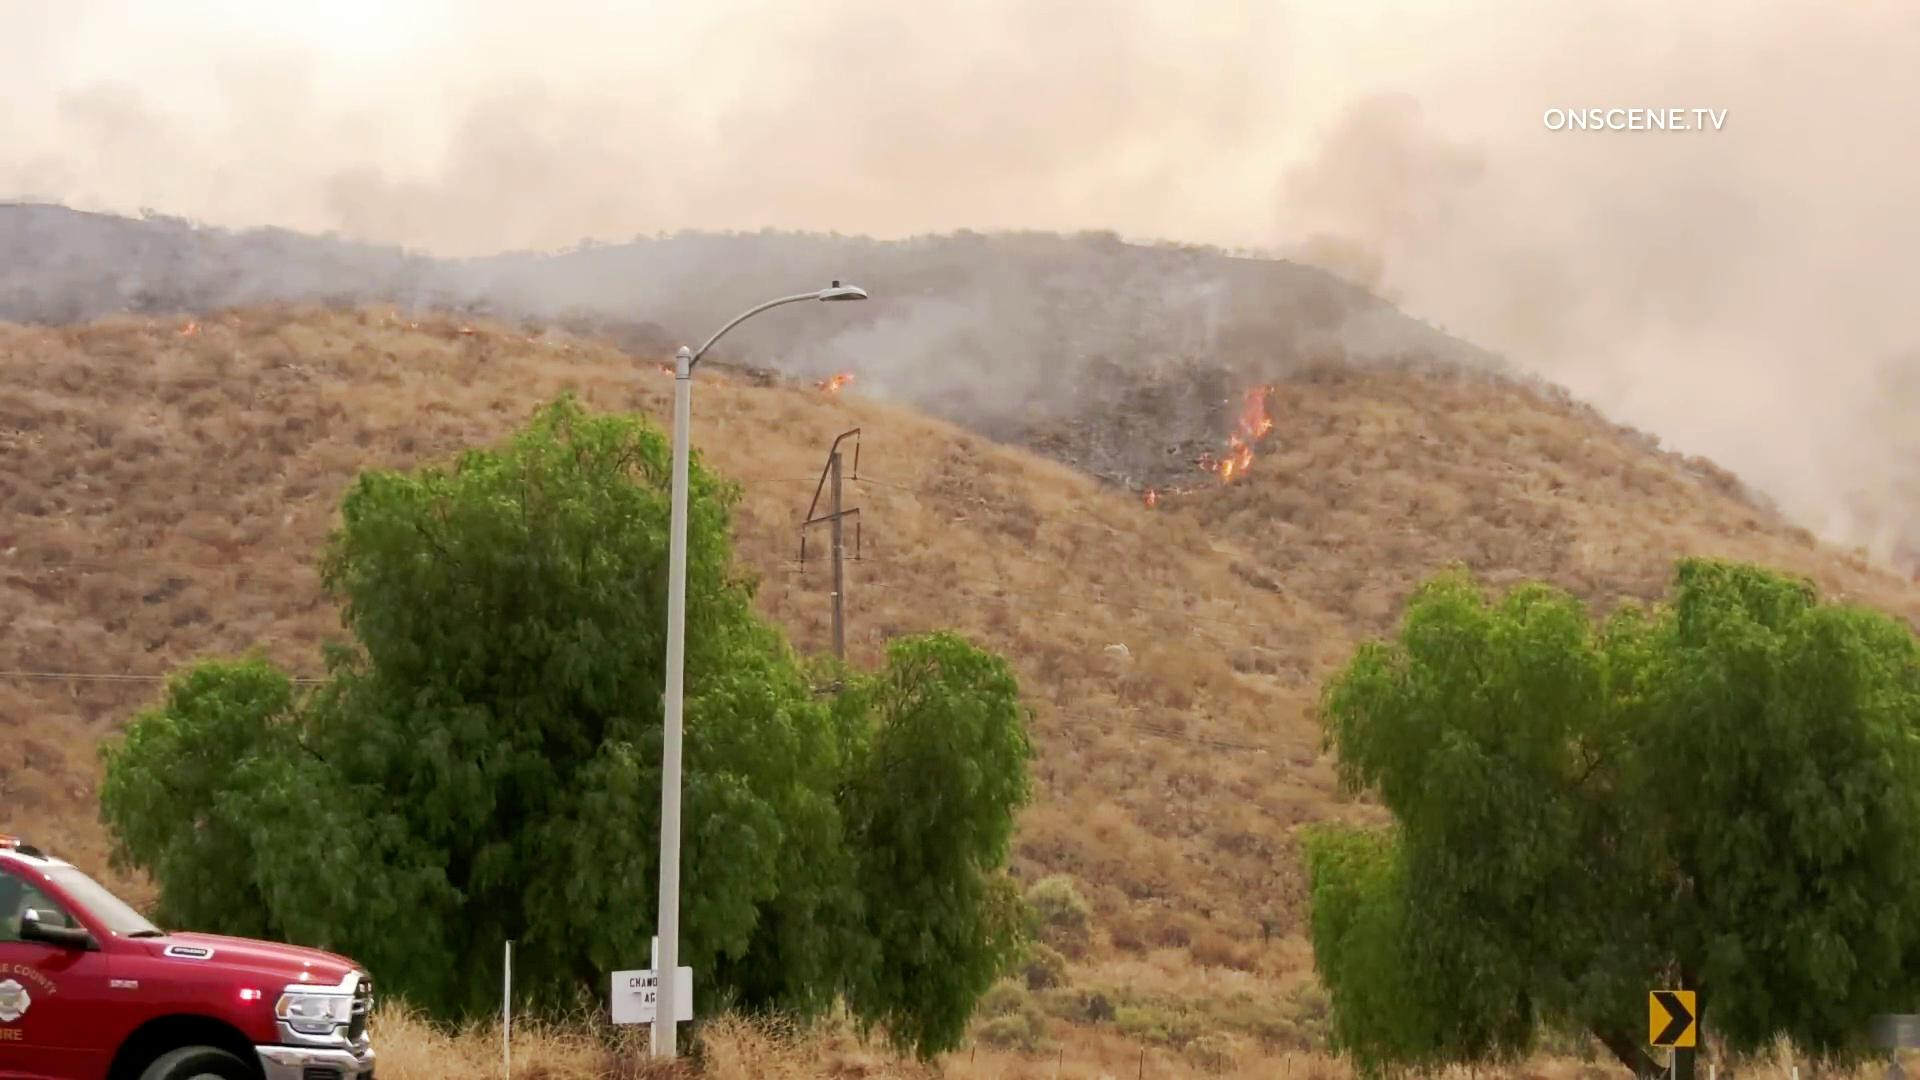fire: (1211, 373, 1283, 484)
smoke: (1238, 123, 1527, 363)
